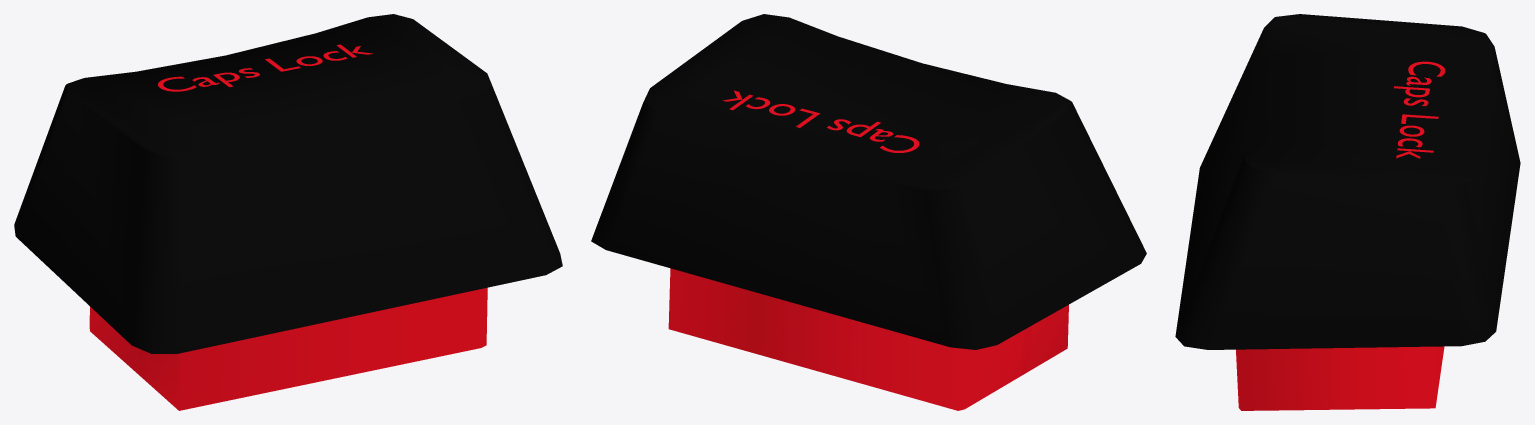
File: capslock-D5GKL-V8.glb
3 renders of one model, left to right at view 1: azimuth 30°, elevation 25°; view 2: azimuth 150°, elevation 25°; view 3: azimuth 270°, elevation 25°, orthographic. The views are drawn at different scales.
Visible parts, largest first — view 1: StudyShelf_1024; view 2: StudyShelf_1024; view 3: StudyShelf_1024.
Part boxes in pixels (x1=…): StudyShelf_1024: x1=14, y1=14, x2=562, y2=410; StudyShelf_1024: x1=591, y1=14, x2=1146, y2=410; StudyShelf_1024: x1=1175, y1=14, x2=1520, y2=410.
Bounding box in the file's own units: 6.25 × 3.56 × 4.46.
Materials: 2 (1 with a texture image).
